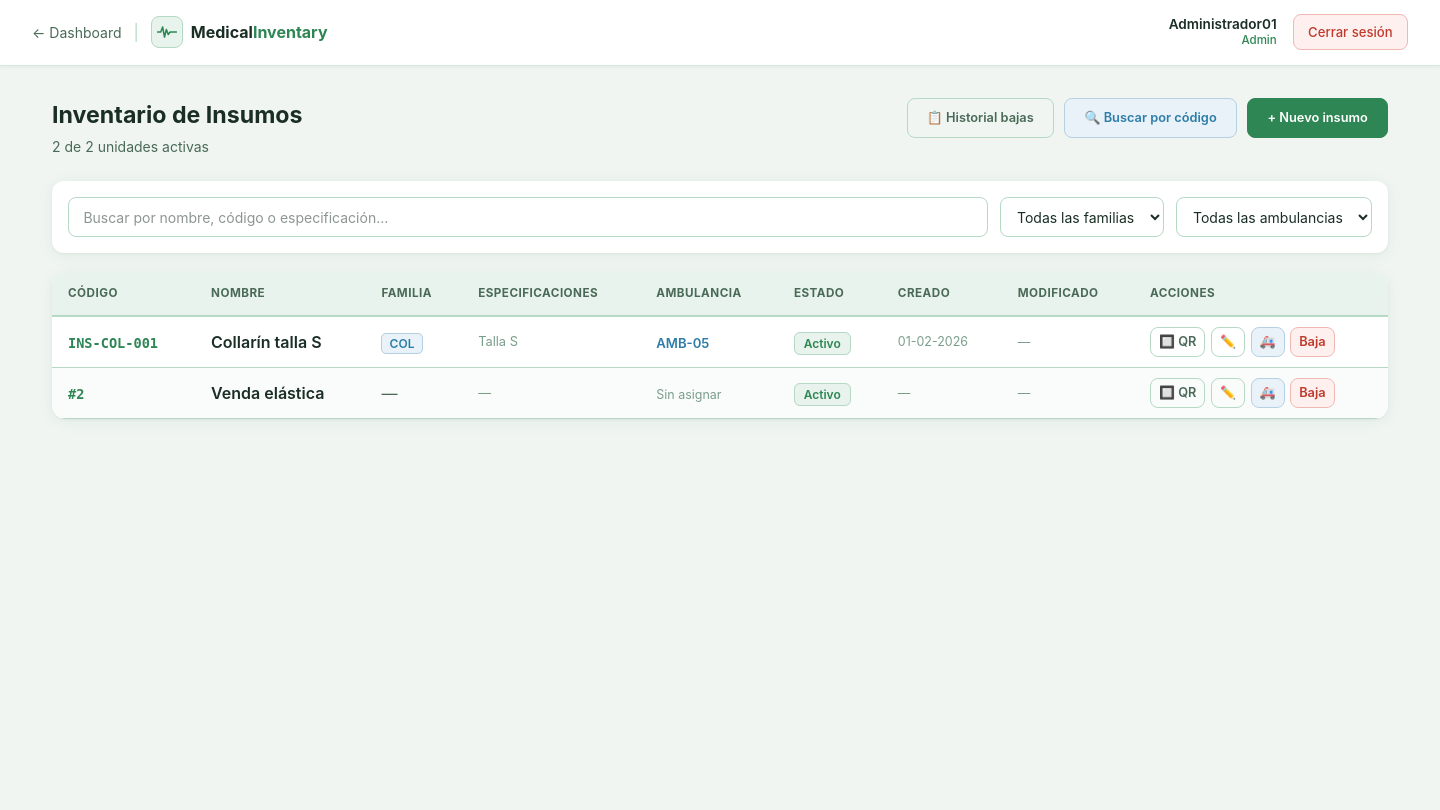
Test: inventario/page.js · buscar por código (manual) › si la búsqueda responde 404 muestra el error y permite reintentar
Check: the text "Collarín talla S" is shown, box [195, 316, 365, 368]
Click the button "🔍 Buscar por código": (1151, 118) [1064, 98, 1237, 138]
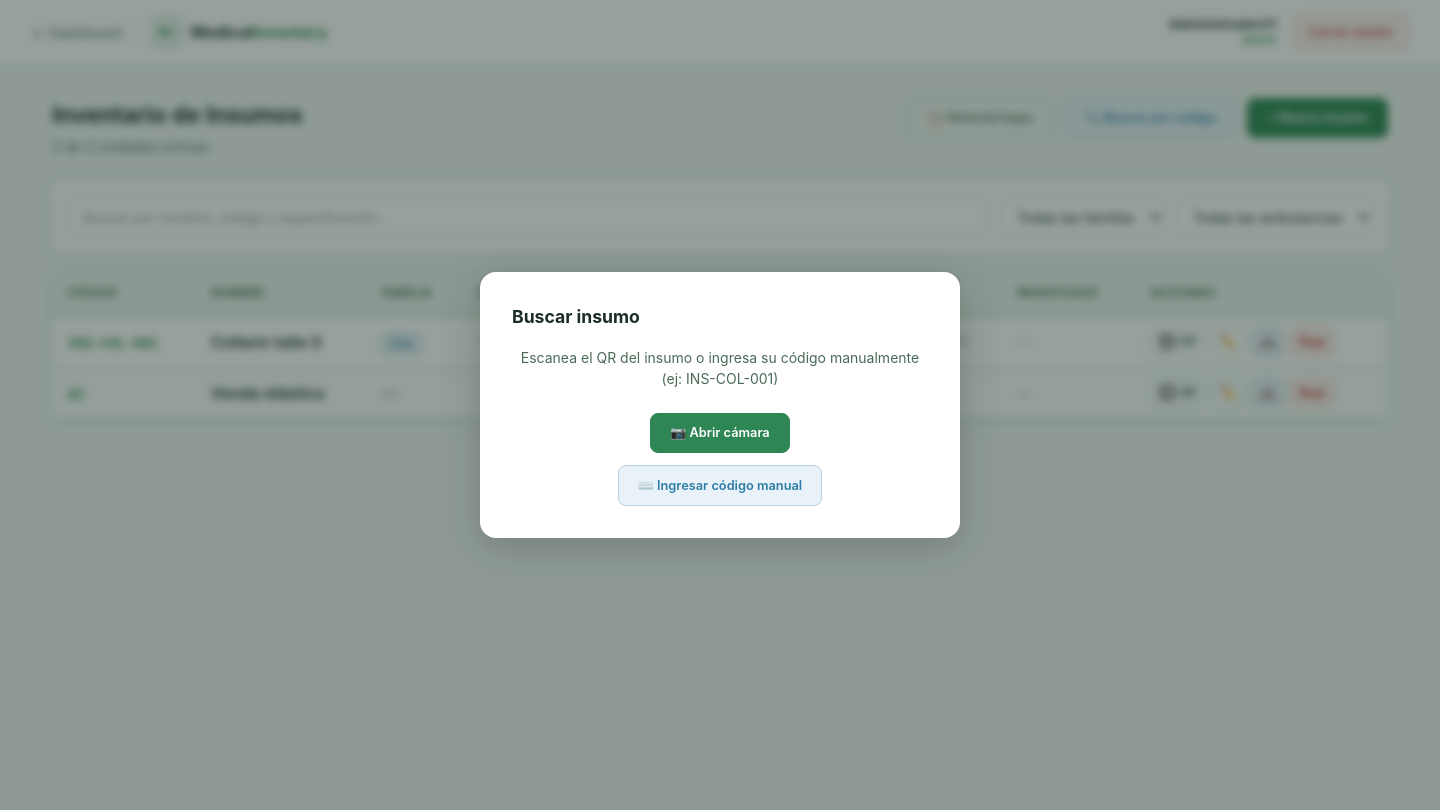
Check: the heading "Buscar insumo" is shown, box [512, 306, 640, 327]
Click the button "⌨️ Ingresar código manual": (720, 485) [618, 465, 822, 506]
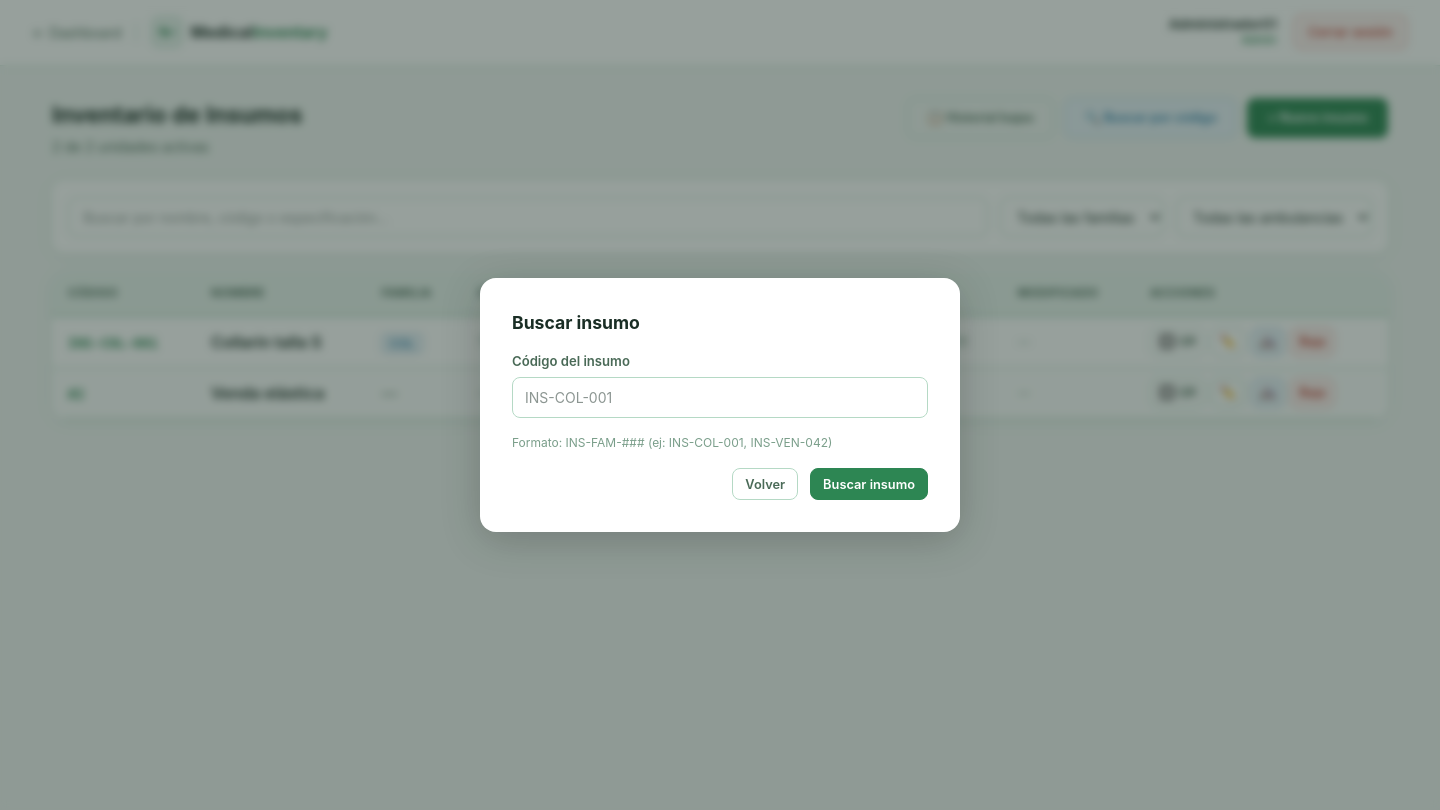
In the field with placeholder "INS-COL-001": (720, 398) [512, 377, 928, 418], type "no-existe"
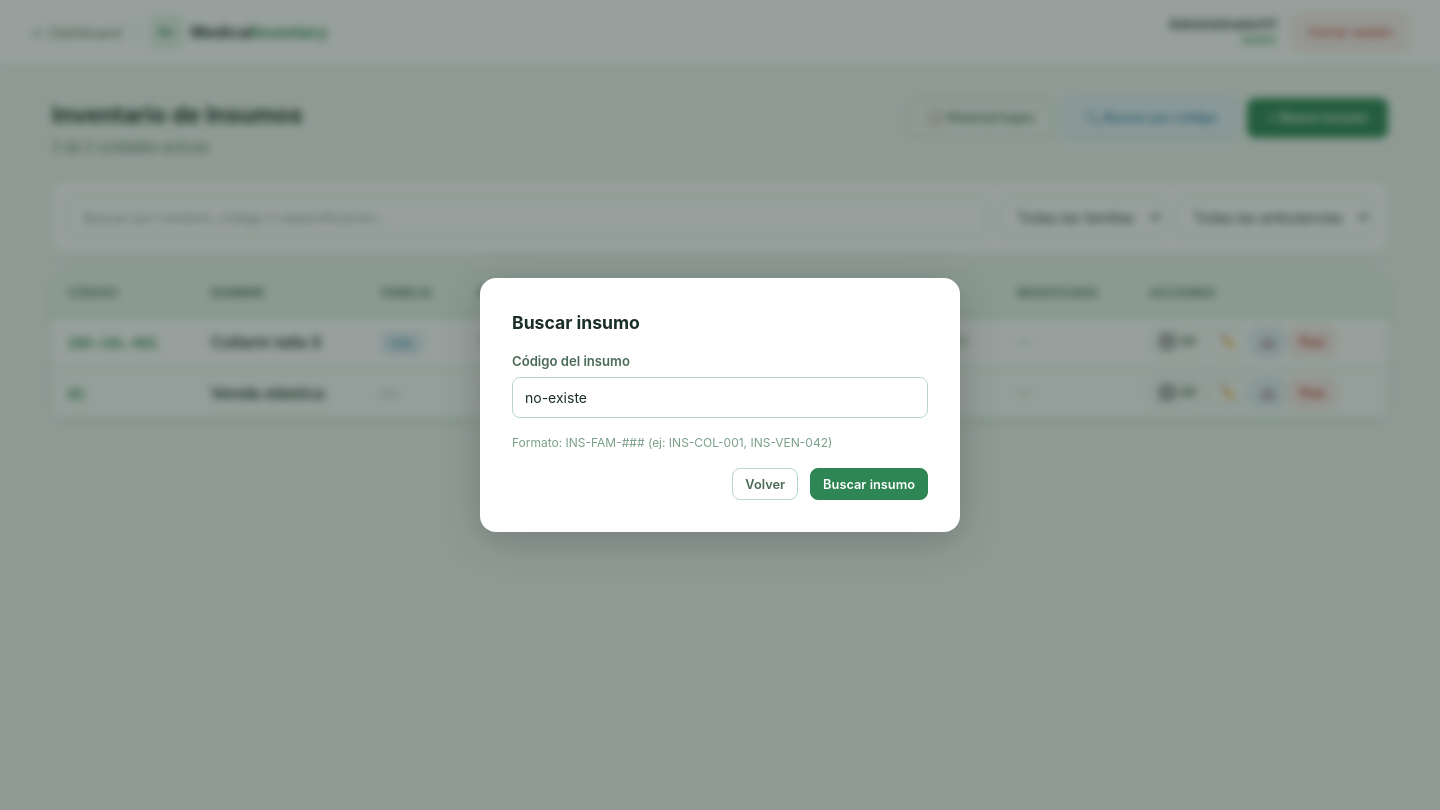
Click the button "Buscar insumo": (869, 484) [810, 468, 928, 500]
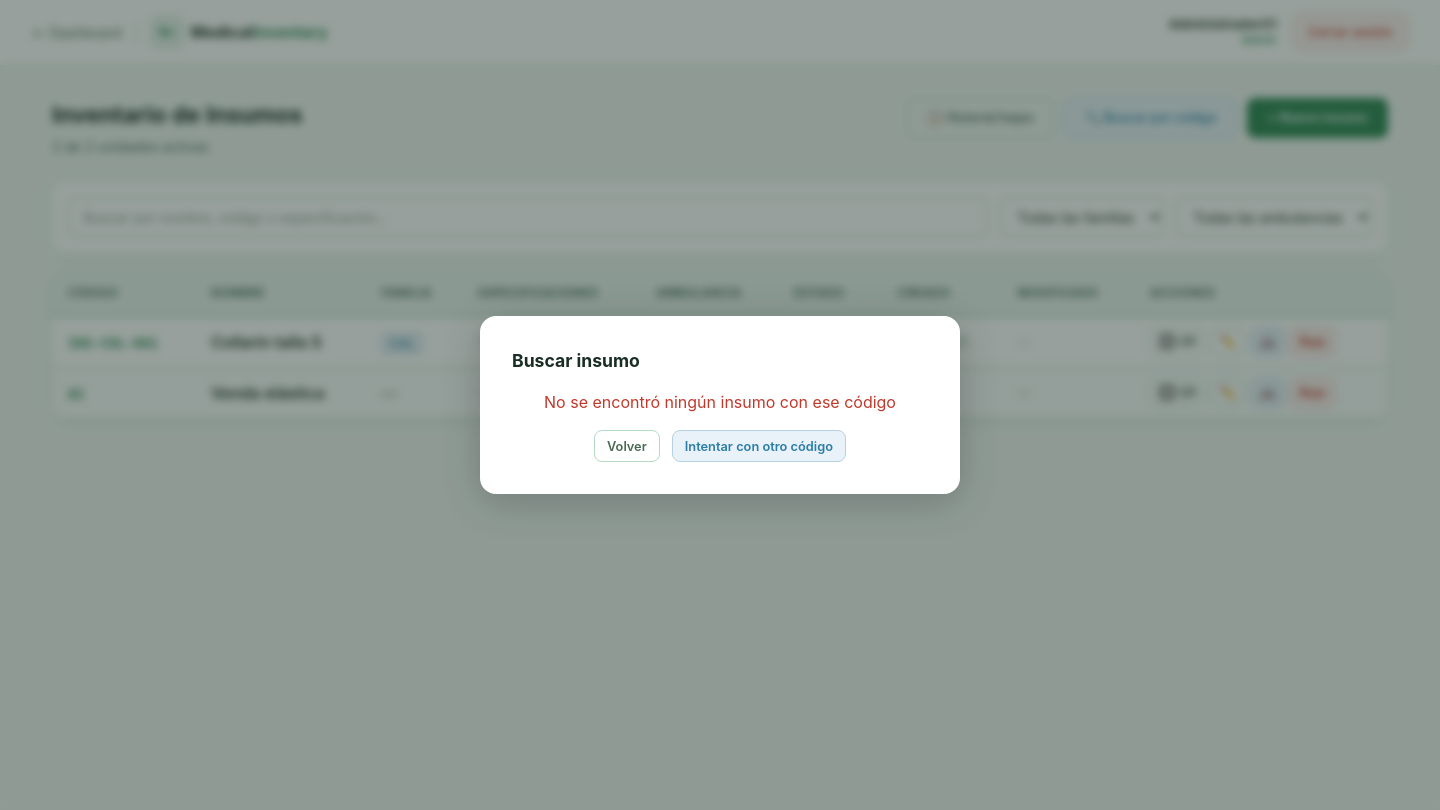
Check: the text "No se encontró ningún insumo con ese código" is shown, box [544, 392, 896, 412]
Click the button "Intentar con otro código": (759, 446) [672, 430, 846, 462]
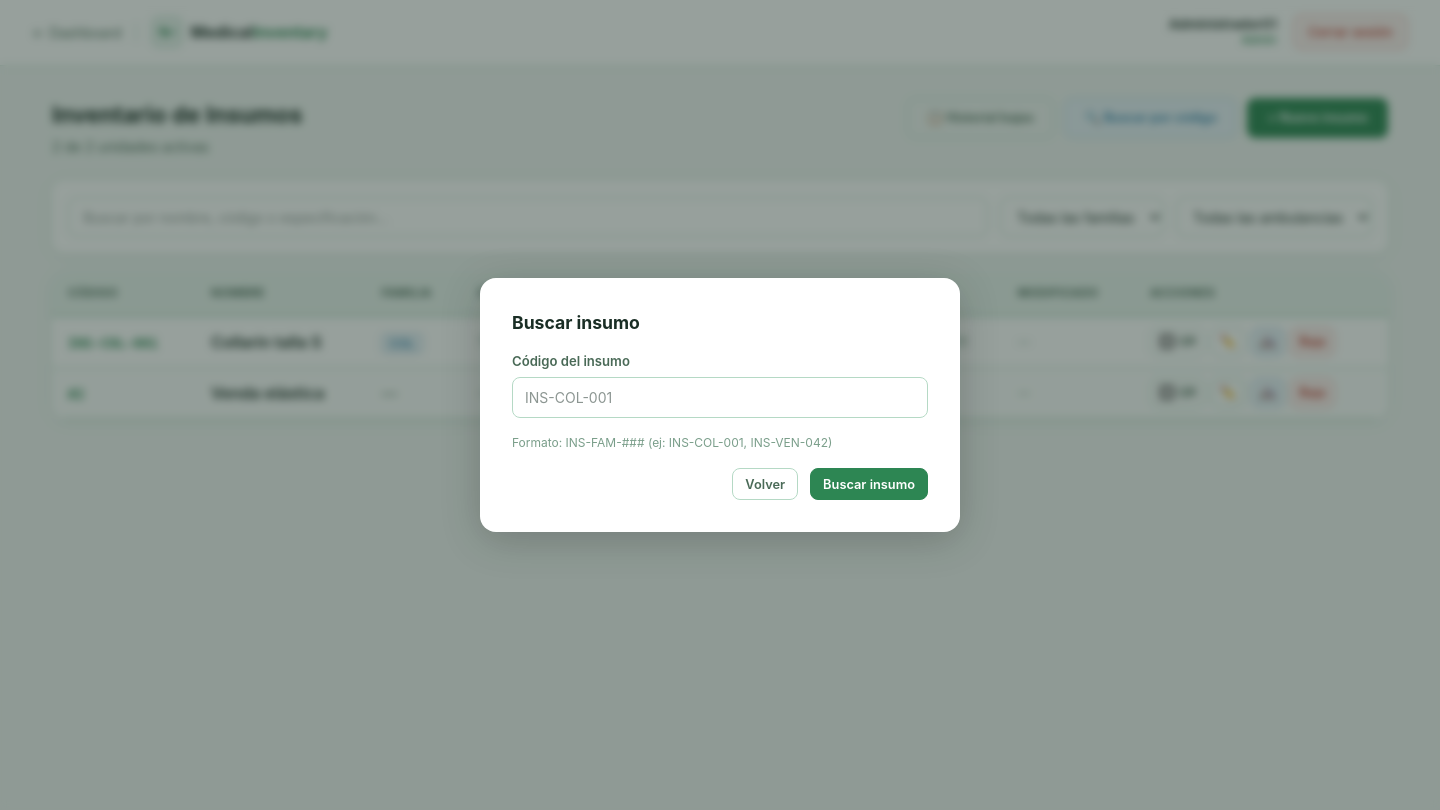
Check: the field with placeholder "INS-COL-001" is empty, box [512, 377, 928, 418]
Check: the text "No se encontró ningún insumo con ese código" is gone
